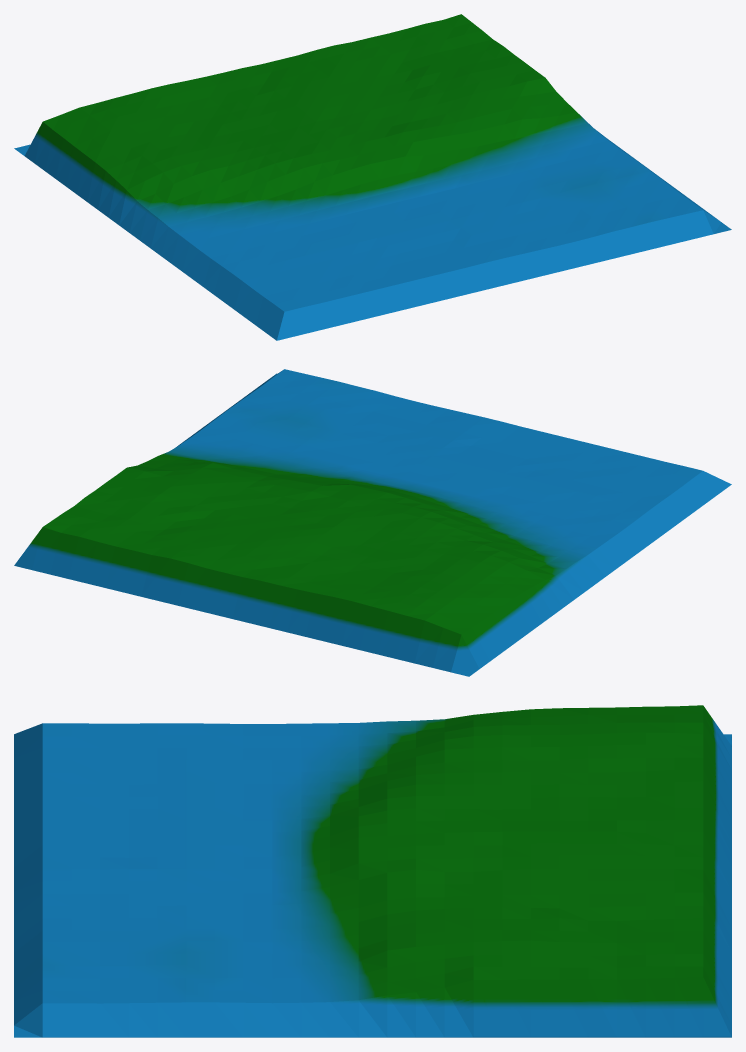
Rendered from Tile6.fbx.
3 renders of one model, top to bottom at view 1: azimuth 30°, elevation 25°; view 2: azimuth 150°, elevation 25°; view 3: azimuth 270°, elevation 25°, orthographic. The views are drawn at different scales.
Visible parts, largest first — view 1: ImageToStl.com_6; view 2: ImageToStl.com_6; view 3: ImageToStl.com_6.
Boxes of the visible parts, x1,y1,x2,y2 form: ImageToStl.com_6: (14, 14, 731, 340); ImageToStl.com_6: (14, 369, 731, 676); ImageToStl.com_6: (14, 705, 731, 1037).
Size of the model in its own units: 10417 by 806 by 10417.
Materials: 1 (1 with a texture image).
